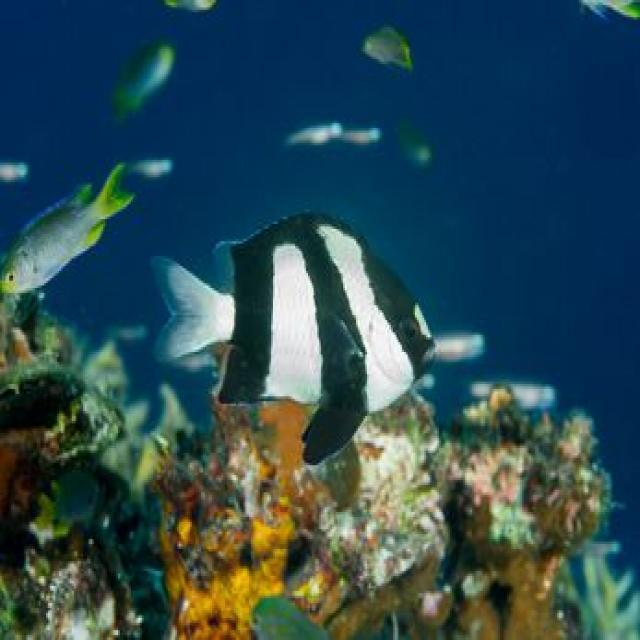Three_striped DasmselFish: (157, 216, 433, 470)
